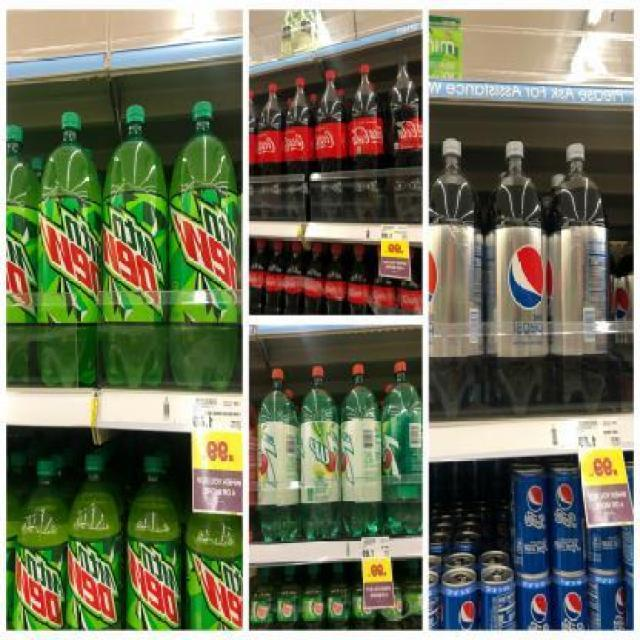Drinks: (166, 98, 240, 390), (99, 103, 167, 389), (37, 111, 100, 389), (487, 139, 549, 413), (549, 143, 611, 412), (428, 136, 484, 419), (186, 445, 243, 633), (12, 456, 66, 632), (126, 454, 178, 631), (67, 455, 119, 631), (256, 369, 299, 543), (381, 360, 423, 536), (340, 364, 382, 538), (299, 366, 339, 540), (386, 53, 423, 222), (348, 64, 386, 221), (314, 69, 348, 220), (548, 462, 588, 576), (510, 460, 548, 577), (286, 77, 315, 220), (258, 83, 286, 220), (370, 246, 396, 315), (323, 243, 346, 315), (347, 244, 370, 315), (397, 248, 421, 316), (303, 241, 325, 315), (282, 241, 304, 315), (248, 238, 266, 316), (265, 239, 283, 316)
